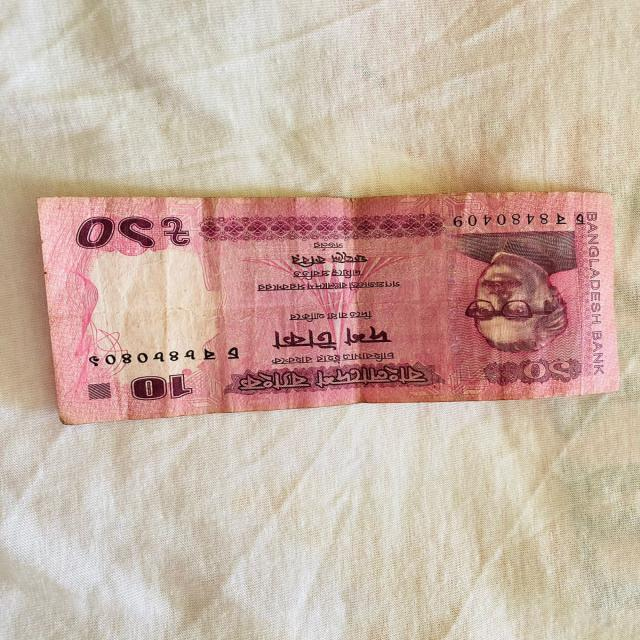Taka: (36, 181, 637, 407)
